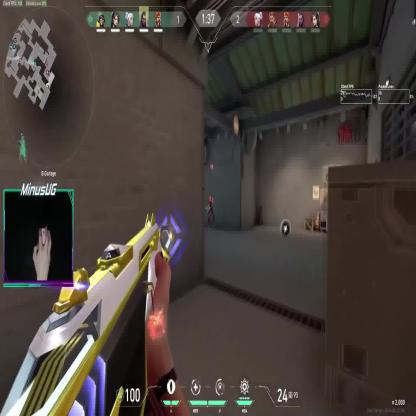enemy: (208, 193, 215, 230)
enemy_head: (210, 194, 212, 199)
